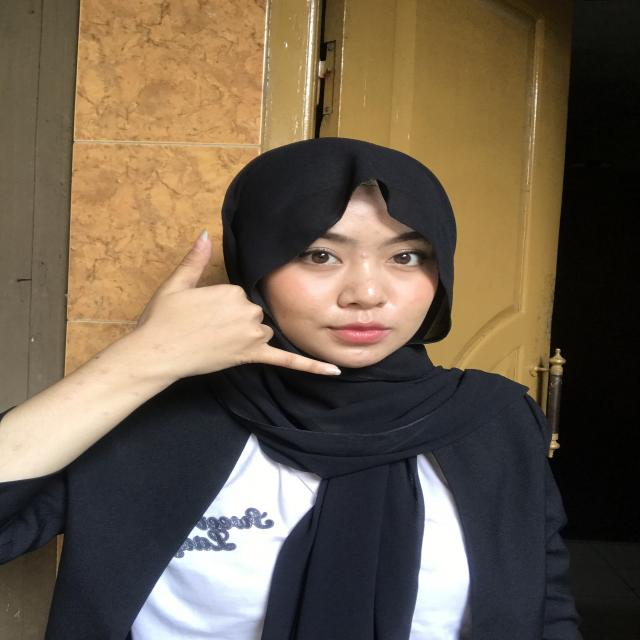telpon: (135, 218, 345, 412)
